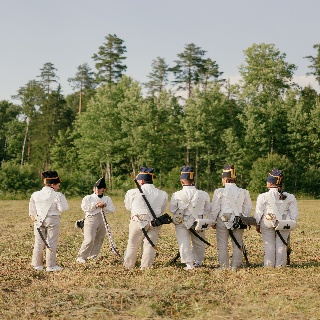rifle: (132, 177, 161, 226), (99, 203, 123, 260)
